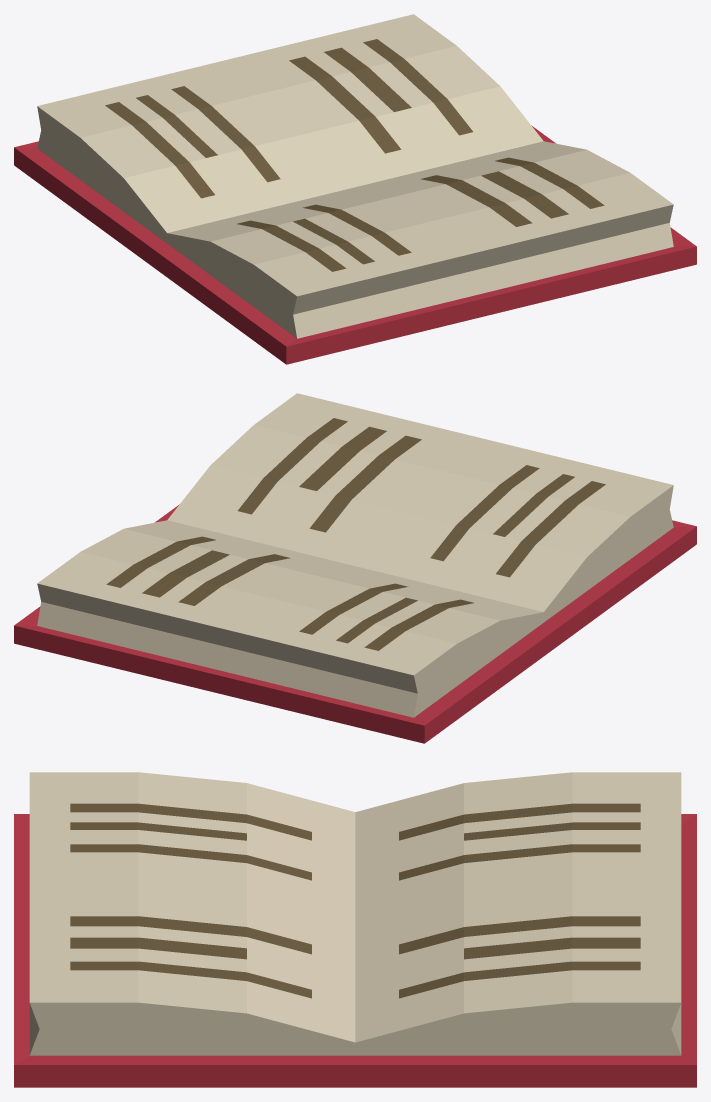
File: Crypt_Book_Open.glb
3 views of the same model, one above another, from view 1: azimuth 30°, elevation 25°; view 2: azimuth 150°, elevation 25°; view 3: azimuth 270°, elevation 25° (orthographic). The views are drawn at different scales.
Visible parts, largest first — view 1: Book_Open; view 2: Book_Open; view 3: Book_Open.
Part boxes in pixels (<box>): Book_Open: <box>14,14,696,364</box>; Book_Open: <box>14,393,696,743</box>; Book_Open: <box>14,772,696,1087</box>.
Size of the model in its own units: 1.19 by 0.1658 by 1.37.
